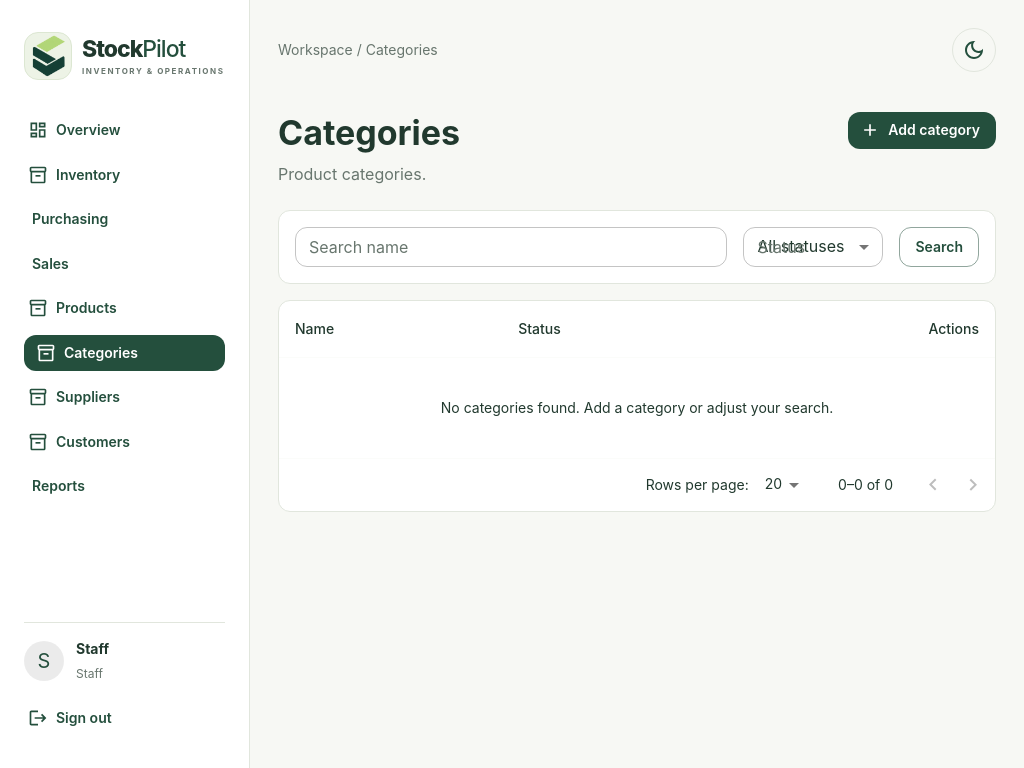
creates a category without contact fields
Click the button "Add category".
click(922, 130)  # box [848,112,996,148]
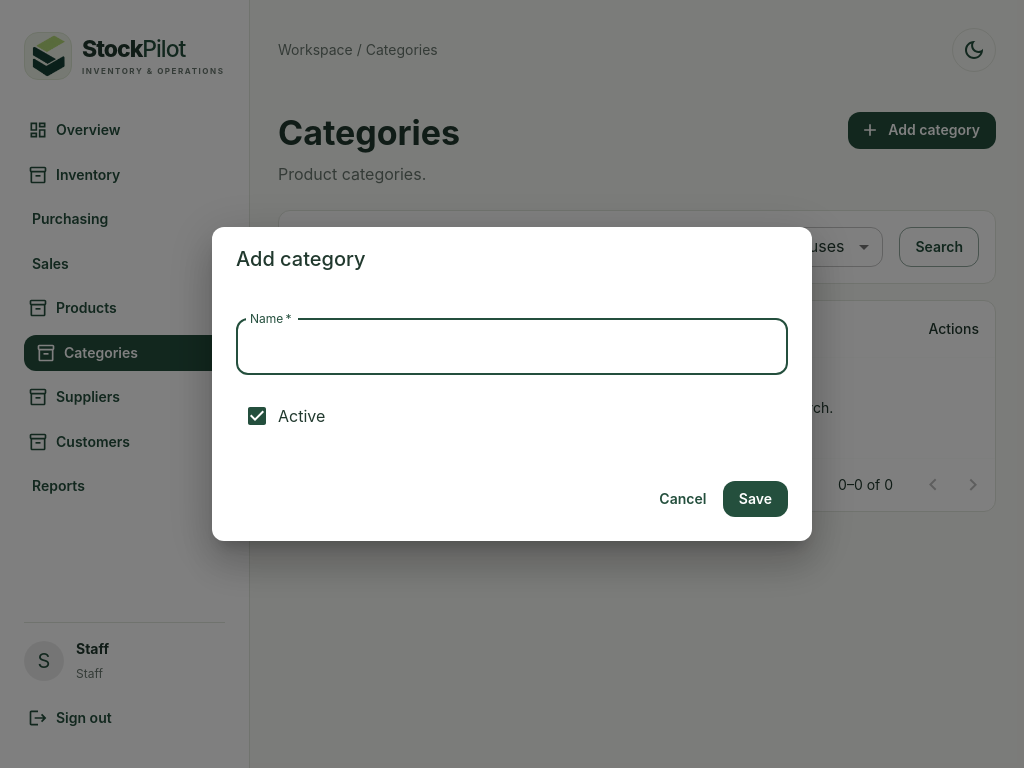
Type "Electronics" into the field labelled "Name *".
click(512, 347); type("Electronics")  # box [236,319,788,375]
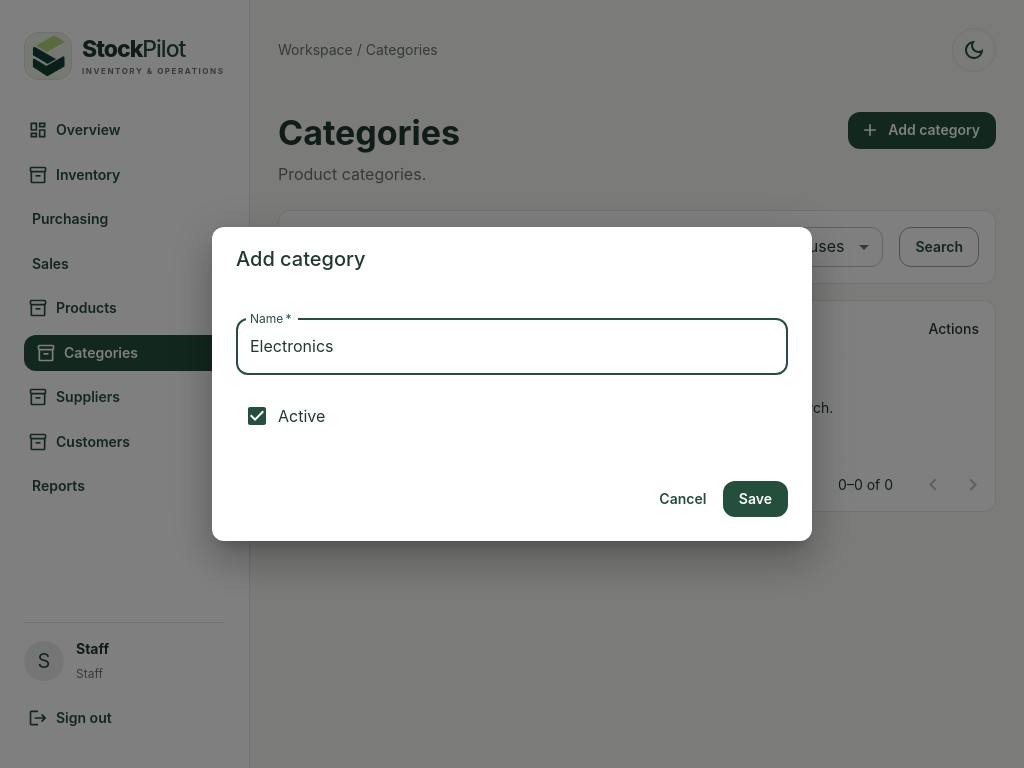
Click the button "Save".
click(755, 499)  # box [723,481,788,517]
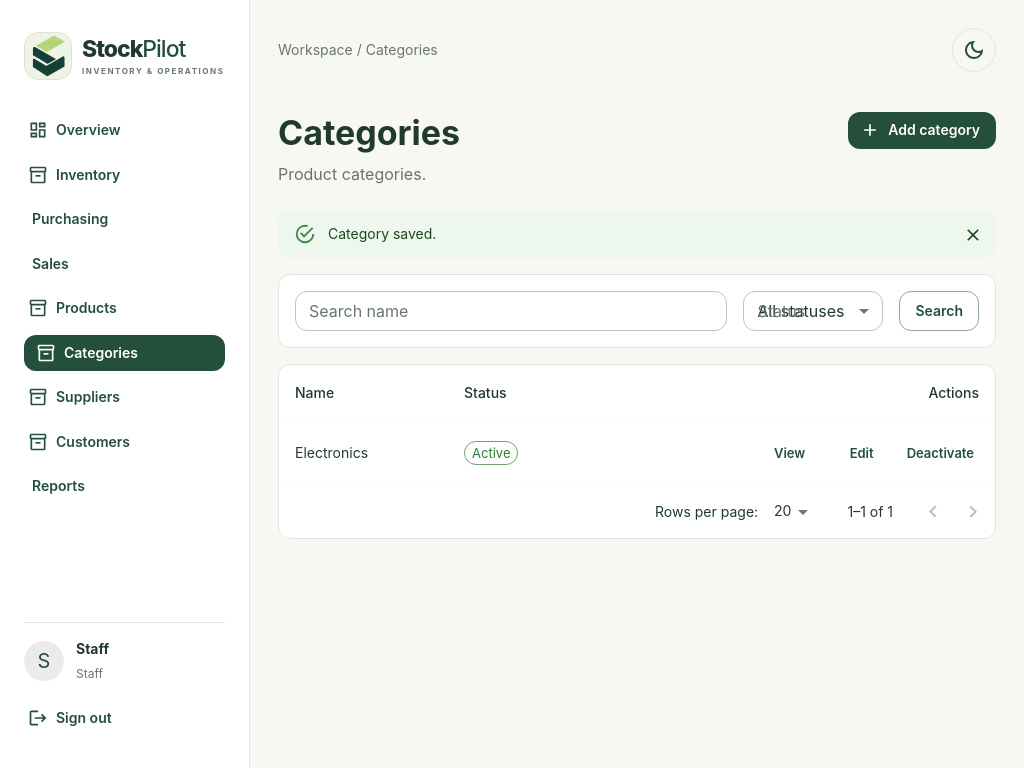
Check: the text "Category saved." is shown, box [328,225,436,242]
Check: the table named "Categories" shows "Electronics", box [295,444,368,461]
